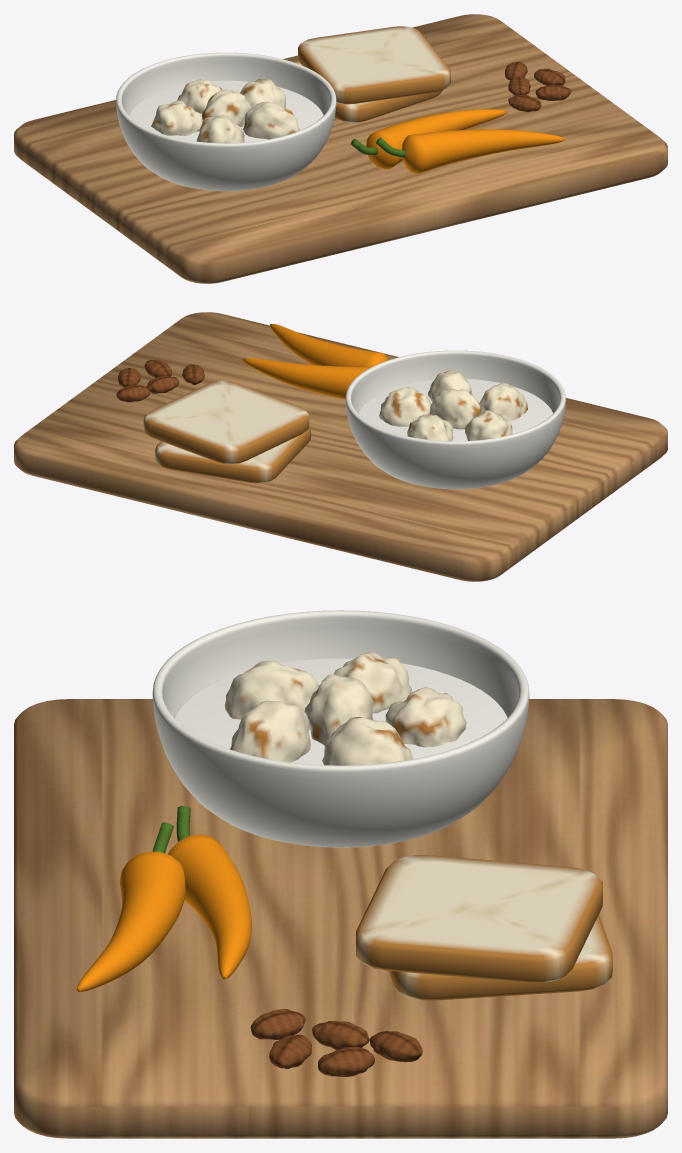
The model's file is paso-2.glb.
3 renders of one model, top to bottom at view 1: azimuth 30°, elevation 25°; view 2: azimuth 150°, elevation 25°; view 3: azimuth 270°, elevation 25°, orthographic. The views are drawn at different scales.
Parts seen in each view (by area): view 1: paso-2-0, paso-2-1, paso-2-10, paso-2-13, paso-2-11, paso-2-2, paso-2-7, paso-2-9, paso-2-5, paso-2-8, paso-2-6, paso-2-3 (+4 smaller); view 2: paso-2-0, paso-2-1, paso-2-10, paso-2-9, paso-2-2, paso-2-11, paso-2-13, paso-2-3, paso-2-8, paso-2-6, paso-2-5, paso-2-4 (+3 smaller); view 3: paso-2-0, paso-2-1, paso-2-10, paso-2-2, paso-2-13, paso-2-11, paso-2-9, paso-2-7, paso-2-4, paso-2-6, paso-2-3, paso-2-8 (+6 smaller).
Boxes of the visible parts, x1,y1,x2,y2 form: paso-2-0: (14, 14, 667, 283); paso-2-1: (116, 52, 336, 191); paso-2-10: (298, 26, 450, 104); paso-2-13: (402, 129, 564, 173); paso-2-11: (366, 109, 507, 169); paso-2-2: (129, 80, 323, 142); paso-2-7: (243, 101, 299, 139); paso-2-9: (293, 60, 442, 122); paso-2-5: (151, 100, 202, 135); paso-2-8: (202, 89, 251, 126); paso-2-6: (196, 115, 244, 143); paso-2-3: (240, 79, 285, 108); paso-2-0: (14, 312, 667, 581); paso-2-1: (345, 350, 565, 489); paso-2-10: (143, 380, 309, 464); paso-2-9: (155, 425, 310, 483); paso-2-2: (358, 379, 552, 441); paso-2-11: (242, 358, 372, 399); paso-2-13: (270, 324, 388, 366); paso-2-3: (379, 387, 430, 426); paso-2-8: (429, 388, 481, 429); paso-2-6: (479, 382, 527, 421); paso-2-5: (464, 410, 512, 440); paso-2-4: (407, 414, 453, 441); paso-2-0: (14, 699, 667, 1138); paso-2-1: (152, 610, 529, 847); paso-2-10: (356, 855, 602, 982); paso-2-2: (174, 658, 507, 765); paso-2-13: (76, 851, 185, 991); paso-2-11: (168, 834, 251, 979); paso-2-9: (388, 915, 612, 1000); paso-2-7: (230, 700, 310, 762); paso-2-4: (385, 687, 466, 747); paso-2-6: (224, 660, 318, 719); paso-2-3: (322, 717, 412, 765); paso-2-8: (304, 674, 373, 745).
Size of the model in its own units: 0.38 by 0.072 by 0.26.
Materials: 7 (1 with a texture image).
